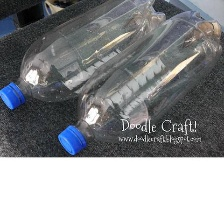bottle: (55, 4, 224, 160), (0, 0, 170, 113)
